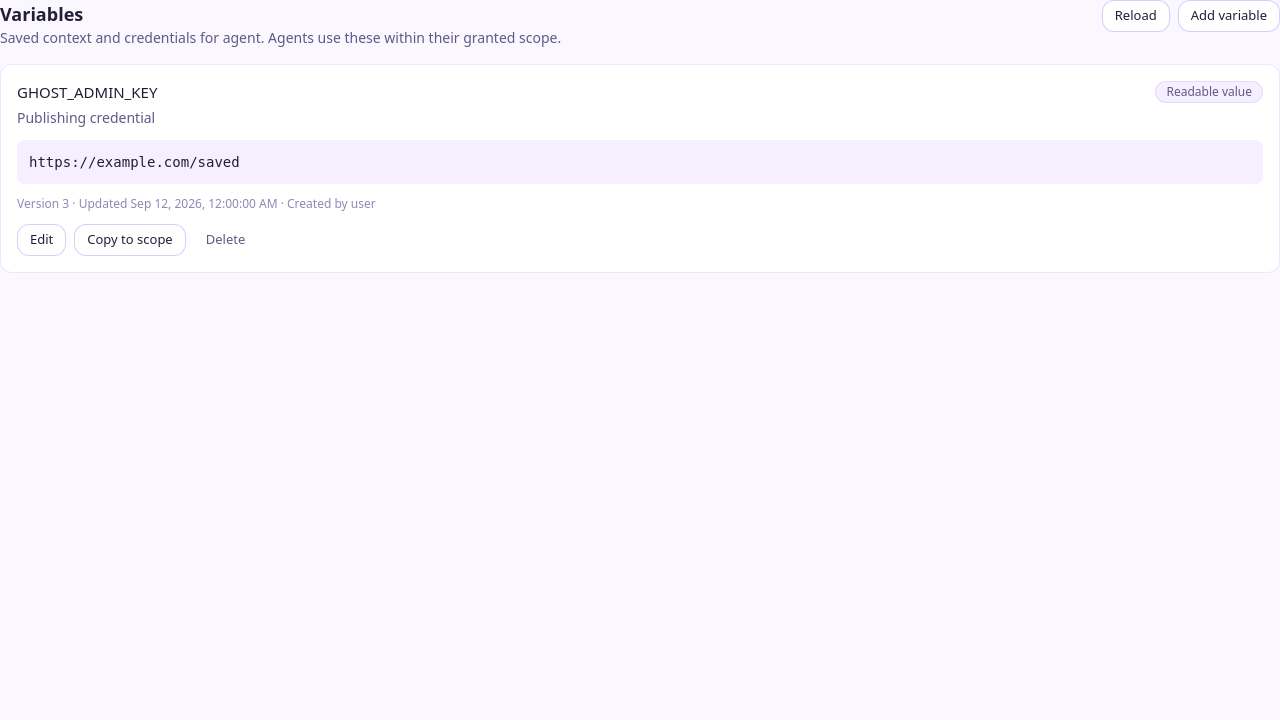
Test: keeps ordinary edit fields named independently of their saved values
Expected: the heading "GHOST_ADMIN_KEY" is shown, [17,81,157,104]
Click the button "Edit" at (42, 240), box [17,224,66,256]
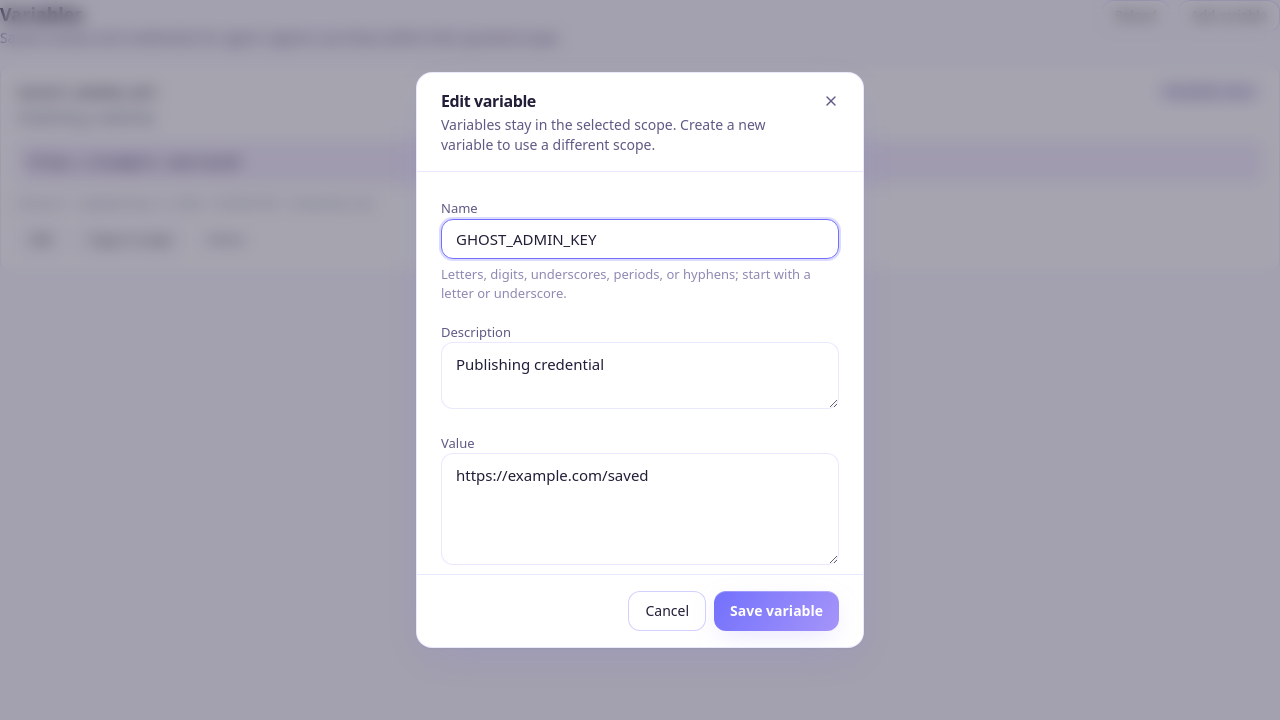
Expected: the text box labelled "Value" holds "https://example.com/saved", [441,453,839,565]
Expected: the text box labelled "Description" holds "Publishing credential", [441,342,839,409]
